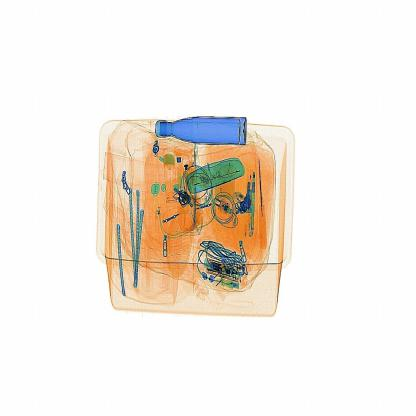wrench: (253, 154, 269, 250)
